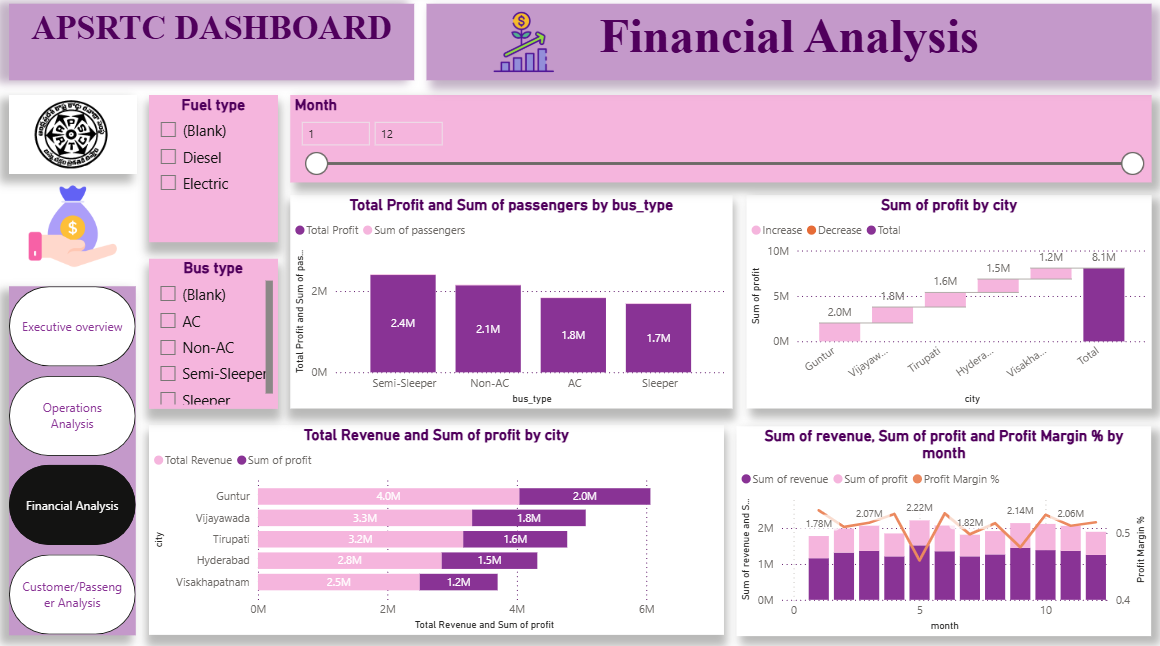

What the dashboard file says about the page in this screenshot:
{"tool":"powerbi","page":{"name":"Financial Analysis","canvas":[1280,720],"ordinal":2},"visuals":[{"type":"barChart","fields":{"Category":["dim_stations.city"],"Y":["fact_trips.Total Revenue","Sum(fact_trips.profit)"]},"box":[164.6,472,631.2,230.5],"z":0,"group":"g1"},{"type":"columnChart","fields":{"Category":["dim_buses.bus_type"],"Y":["fact_trips.Total Profit","Sum(fact_trips.passengers)"]},"box":[319.7,219.5,485.8,234.6],"z":1000,"group":"g1"},{"type":"lineStackedColumnComboChart","fields":{"Category":["dim_dates.month"],"Y":["Sum(fact_trips.revenue)","Sum(fact_trips.profit)"],"Y2":["fact_trips.Profit Margin %"]},"box":[809.6,473.4,455.6,230.5],"z":2000,"group":"g1"},{"type":"waterfallChart","fields":{"Category":["dim_stations.city"],"Y":["Sum(fact_trips.profit)"]},"box":[820.6,219.5,444.6,234.6],"z":3000,"group":"g1"},{"type":"slicer","title":"Fuel type","fields":{"Values":["dim_buses.fuel_type"]},"box":[164.6,109.8,141.3,161.9],"z":4000,"group":"g1"},{"type":"slicer","title":"Month","fields":{"Values":["dim_dates.month"]},"box":[319.7,109.8,945.5,96.1],"z":5000,"group":"g1"},{"type":"slicer","title":"Bus type","fields":{"Values":["dim_buses.bus_type"]},"box":[164.6,289.5,141.3,164.7],"z":6000,"group":"g1"},{"type":"textbox","box":[11,9.6,444.6,83.7],"z":7000,"group":"g1"},{"type":"textbox","box":[469.3,9.6,795.9,83.7],"z":8000,"group":"g1"},{"type":"pageNavigator","box":[10.8,319.4,139.4,383],"z":9000,"group":"g1"},{"type":"image","box":[11,109.8,140,86.4],"z":10000,"group":"g1"},{"type":"image","box":[11,205.8,140,96.1],"z":11000,"group":"g1"},{"type":"image","box":[513.2,15.1,126.2,72.7],"z":12000,"group":"g1"},{"type":"group","id":"g1","title":"Group 1","box":[10.8,9.6,1254.4,694.3],"z":12001}]}

Visuals, with their boxes in screenshot pixels (x1, y1, x2, y2), scaled from the page's 1280x720 canvas onto the 1160x646 screenshot:
barChart - dim_stations.city x fact_trips.Total Revenue: BBox(149, 423, 721, 630)
columnChart - dim_buses.bus_type x fact_trips.Total Profit: BBox(290, 197, 730, 407)
lineStackedColumnComboChart - dim_dates.month x Sum(fact_trips.revenue): BBox(734, 425, 1147, 632)
waterfallChart - dim_stations.city x Sum(fact_trips.profit): BBox(744, 197, 1147, 407)
"Fuel type" slicer: BBox(149, 99, 277, 244)
"Month" slicer: BBox(290, 99, 1147, 185)
"Bus type" slicer: BBox(149, 260, 277, 408)
textbox: BBox(10, 9, 413, 84)
textbox: BBox(425, 9, 1147, 84)
pageNavigator: BBox(10, 287, 136, 630)
image: BBox(10, 99, 137, 176)
image: BBox(10, 185, 137, 271)
image: BBox(465, 14, 579, 79)
"Group 1" group: BBox(10, 9, 1147, 632)
